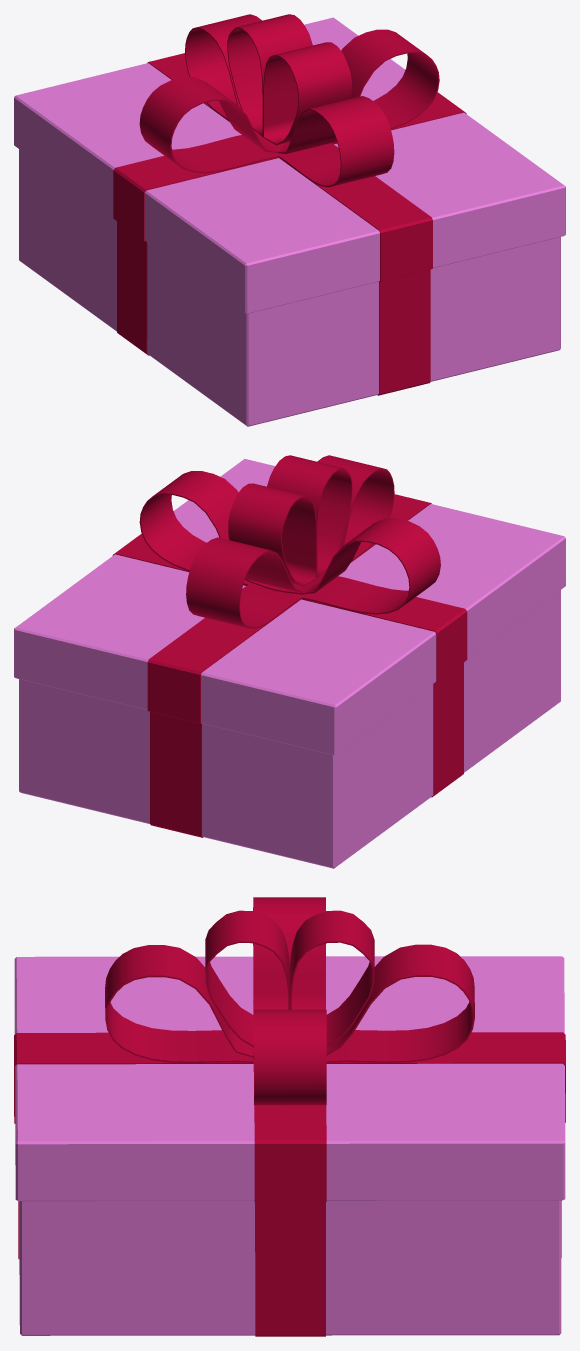
Rendered from Present_05.glb.
The picture shows the model from 3 angles, top to bottom: view 1: azimuth 30°, elevation 25°; view 2: azimuth 150°, elevation 25°; view 3: azimuth 270°, elevation 25°; orthographic projection. The views are drawn at different scales.
Visible parts, largest first — view 1: Present3; view 2: Present3; view 3: Present3.
Part boxes in pixels (x1,y1,x2,y2): Present3: (14,14,565,426); Present3: (14,455,565,868); Present3: (14,897,565,1336).
Bounding box in the file's own units: 0.4062 × 0.3236 × 0.5061.
